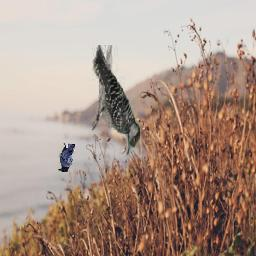Crow: (57, 144, 75, 173)
Woodpecker: (92, 46, 140, 161)
